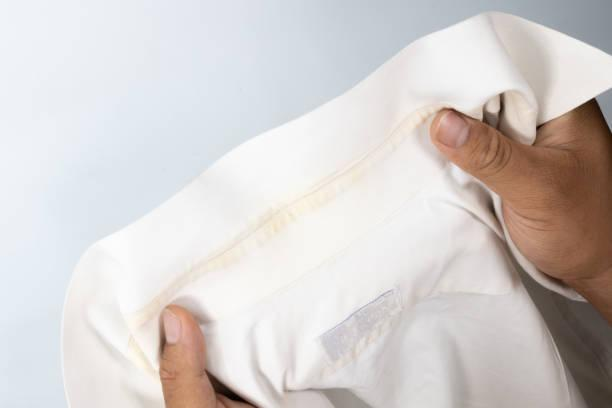gun: (151, 155, 440, 243), (121, 287, 152, 360), (407, 94, 442, 129), (431, 159, 432, 168)
